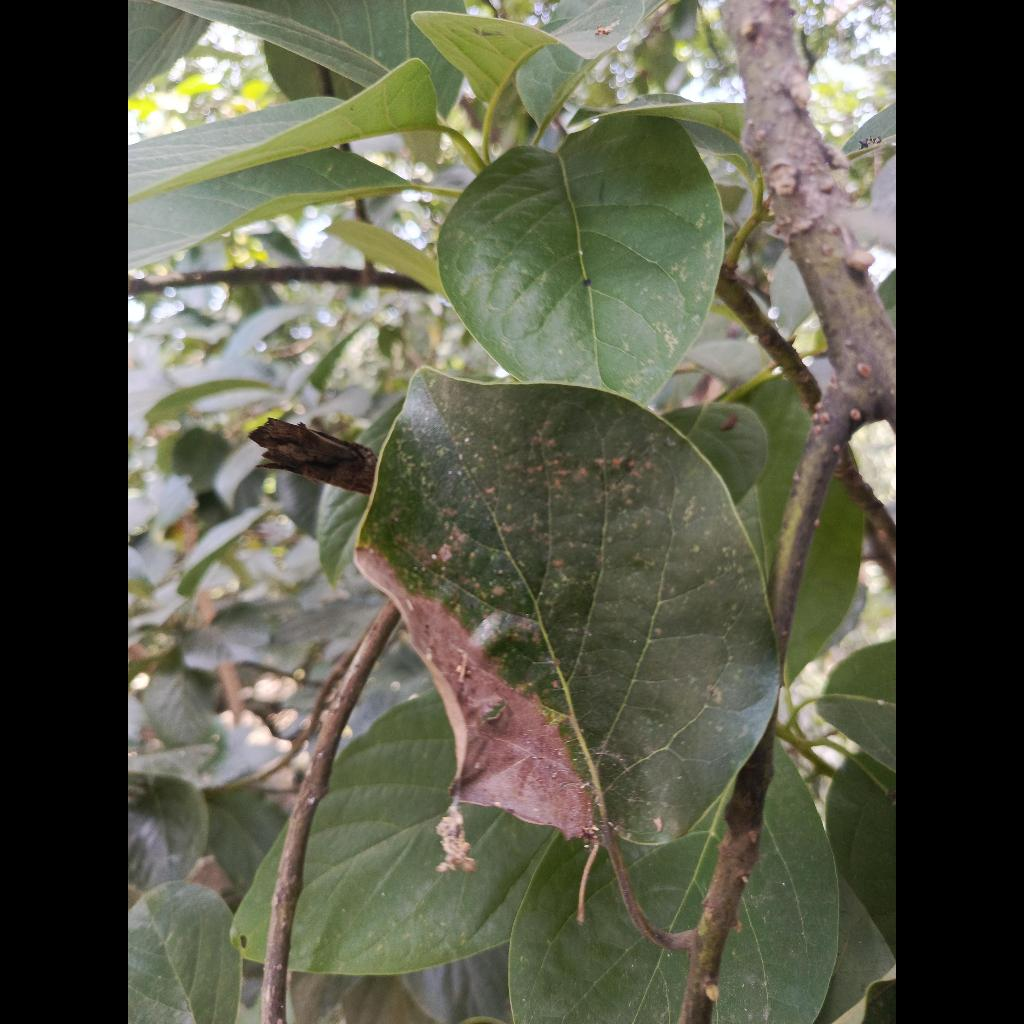antracnosis_hoja: (355, 368, 778, 843)
